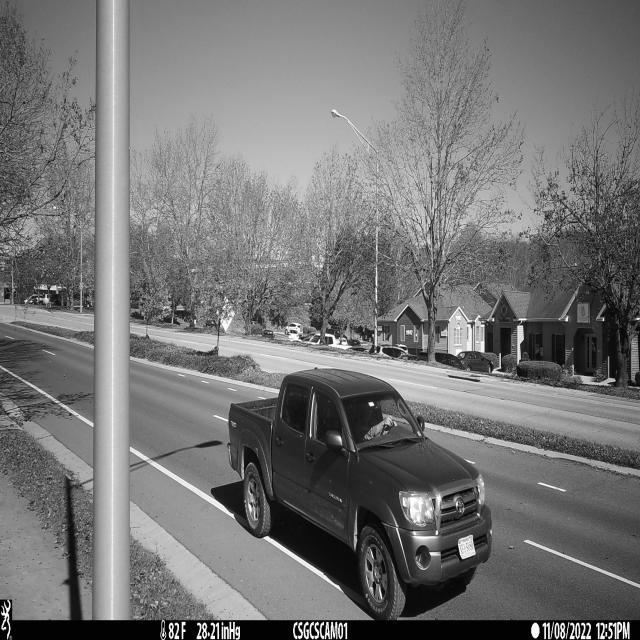Pickup: (229, 367, 492, 620)
